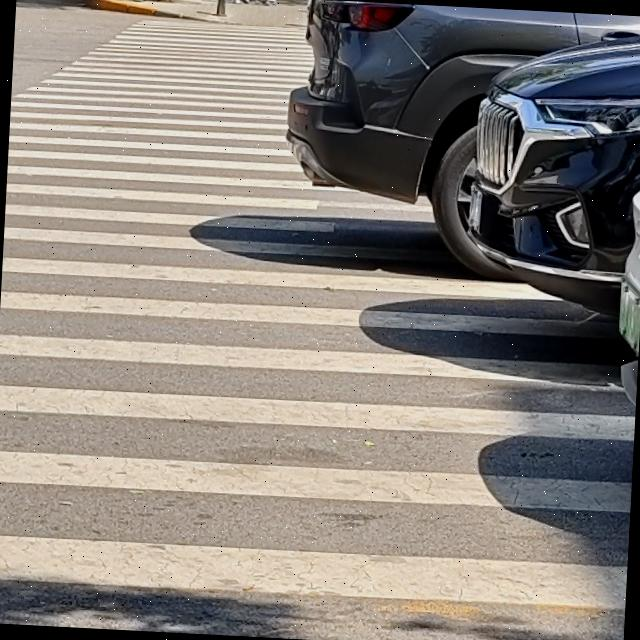curb: (84, 0, 226, 23)
